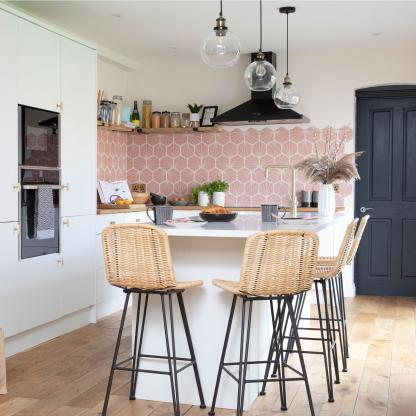chair: (217, 229, 315, 416), (98, 223, 192, 416), (314, 213, 357, 416), (313, 210, 380, 270)
door: (347, 79, 416, 309)
light: (276, 0, 307, 123), (197, 0, 240, 73), (247, 2, 275, 98)
table: (107, 185, 337, 411)
